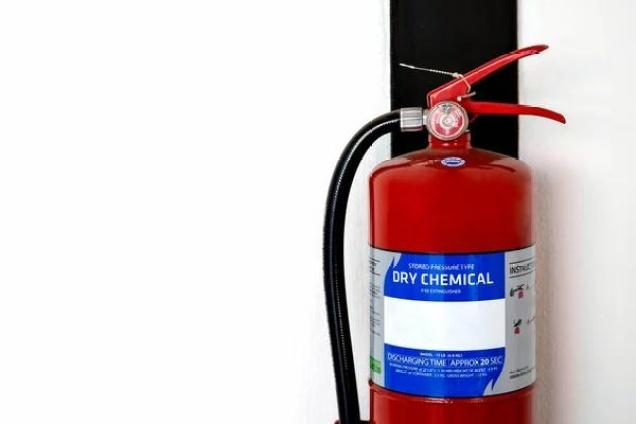APAR: (366, 42, 566, 423)
